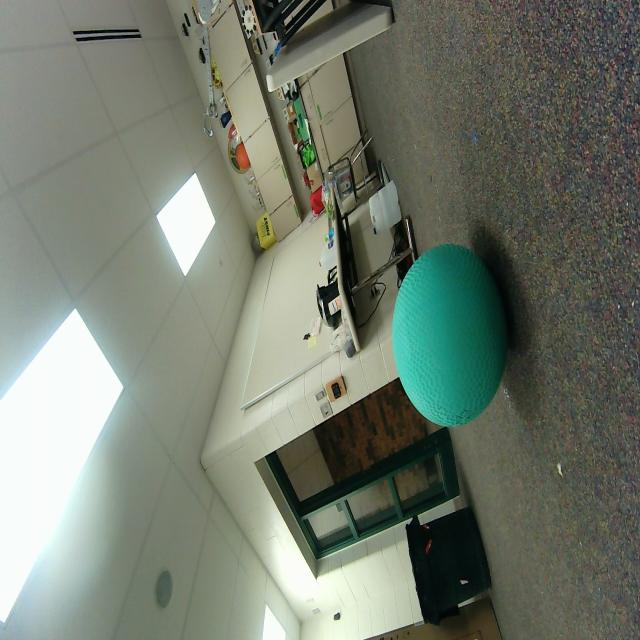algae: (390, 237, 511, 434)
